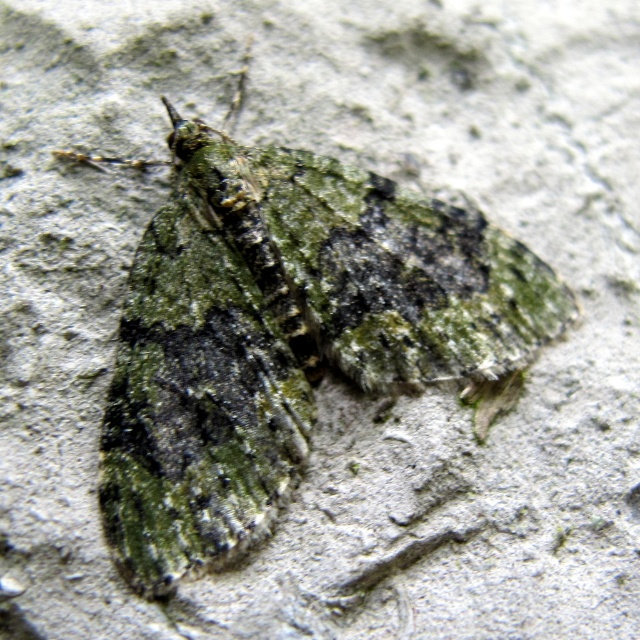Moths and butterflies: (50, 29, 588, 596)
